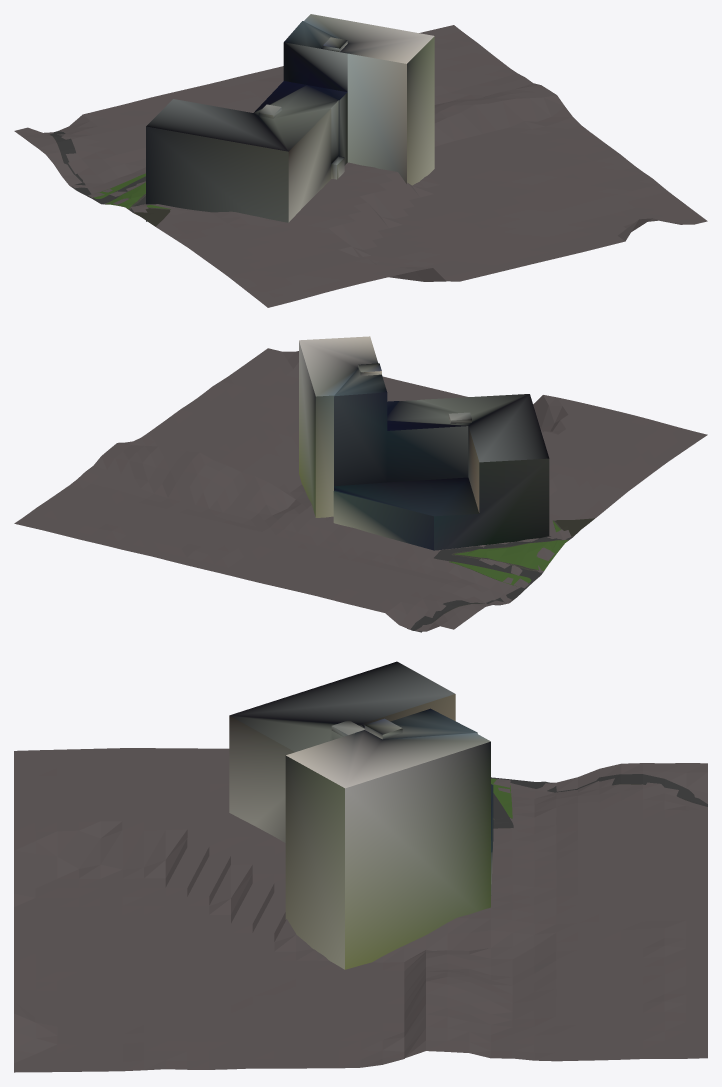
3 views of the same model, one above another, from view 1: azimuth 30°, elevation 25°; view 2: azimuth 150°, elevation 25°; view 3: azimuth 270°, elevation 25° (orthographic). The views are drawn at different scales.
Visible parts, largest first — view 1: c_m22_p02; view 2: c_m22_p02; view 3: c_m22_p02.
Part boxes in pixels (box(x1,y1,x2,y2)): c_m22_p02: box(14, 14, 707, 307); c_m22_p02: box(14, 336, 707, 632); c_m22_p02: box(14, 661, 707, 1072).
Bounding box in the file's own units: 128 × 38.98 × 128.
